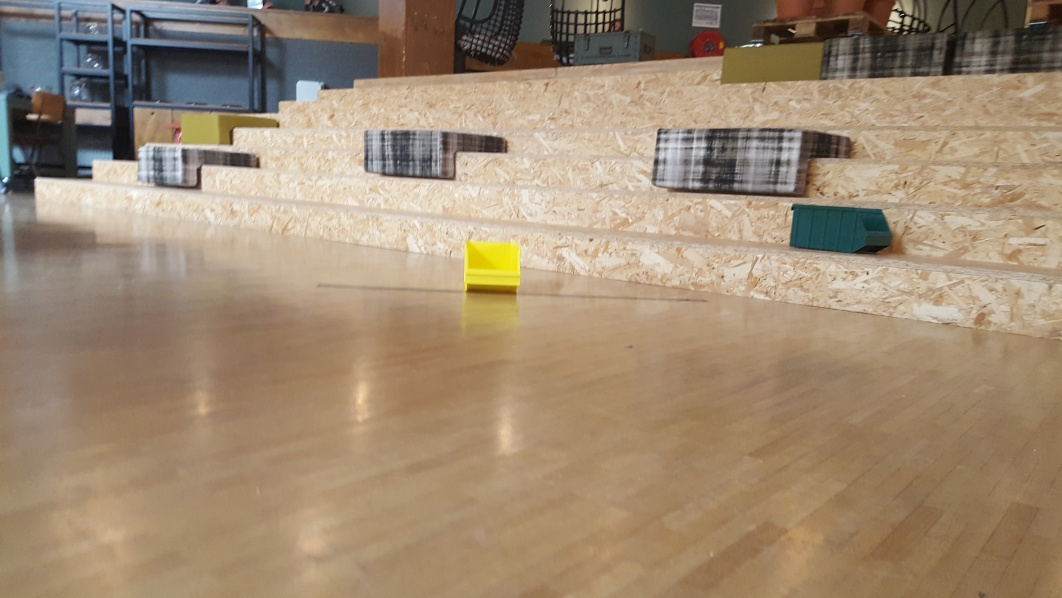tray: (786, 200, 894, 253), (461, 238, 522, 291)
